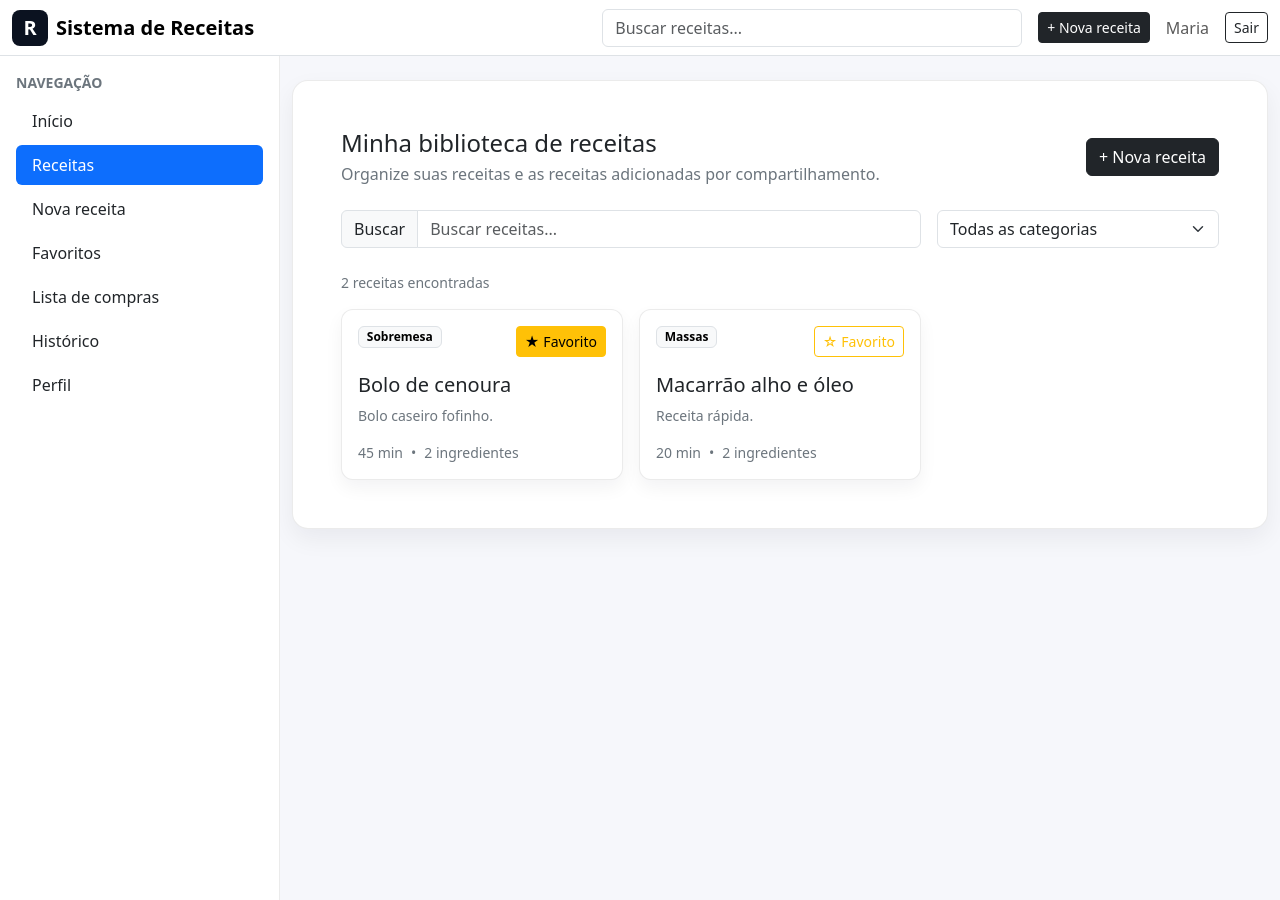
Scenario: recipes listing › favorites and removes recipes from the listing
expect the link "Bolo de cenoura" is shown: met, box [358,371,519,462]
Click the button with aria-label "favoritar macarr": (859, 341) [814,326,904,357]
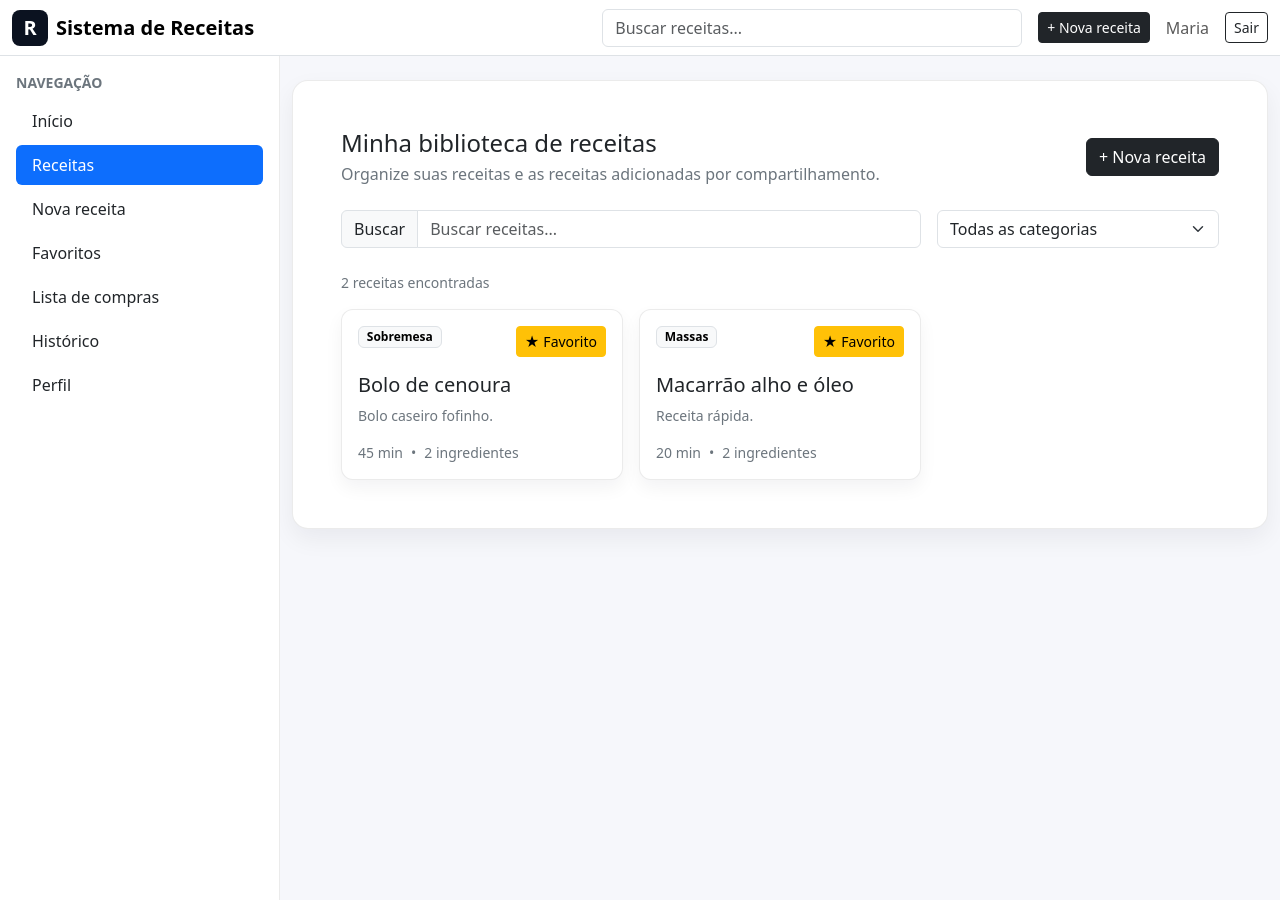
expect the button with aria-label "remover dos favoritos macarr" is shown: met, box [814,326,904,357]
Click the button with aria-label "remover dos favoritos bolo de cenoura": (561, 341) [516,326,606,357]
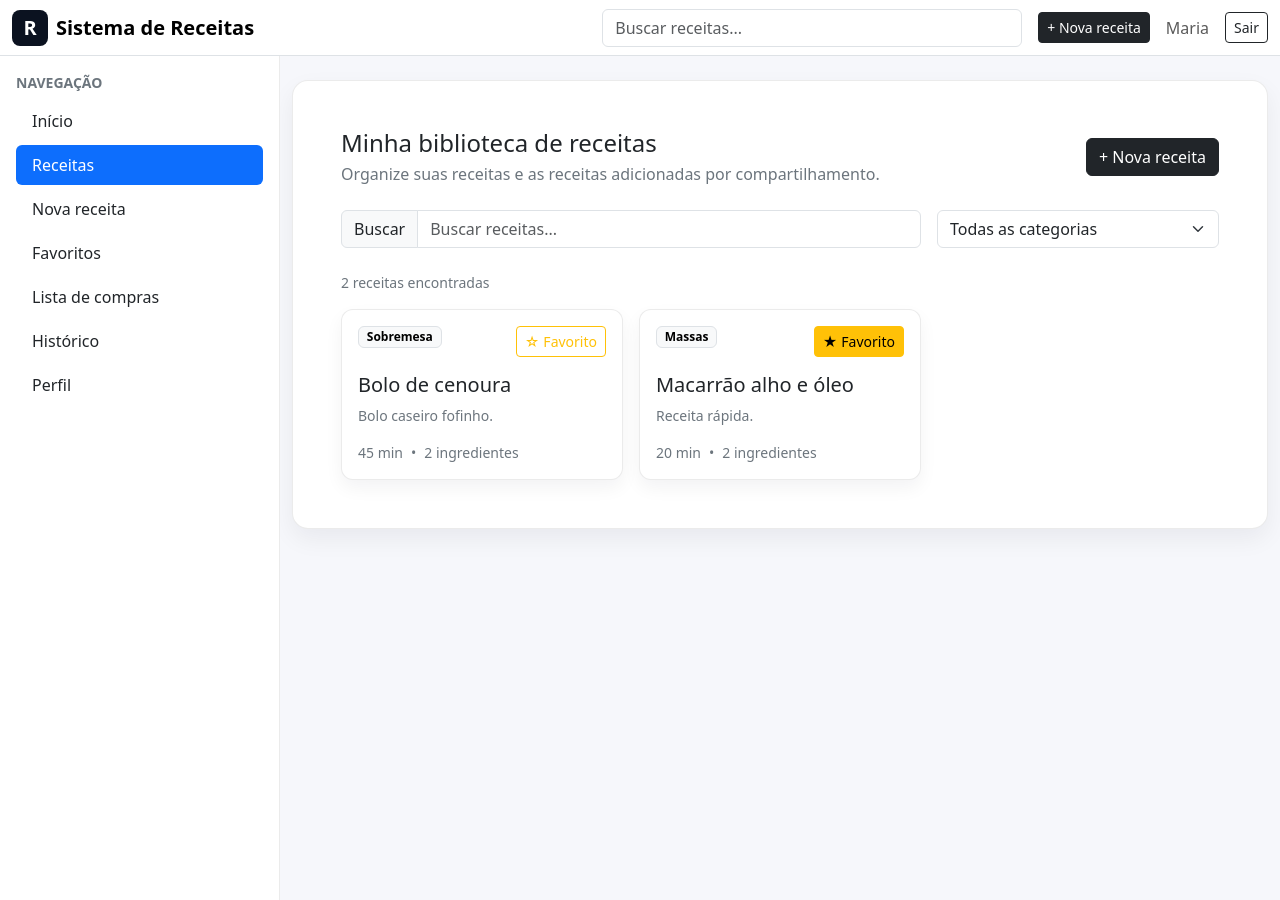
expect the button with aria-label "favoritar bolo de cenoura" is shown: met, box [516,326,606,357]
